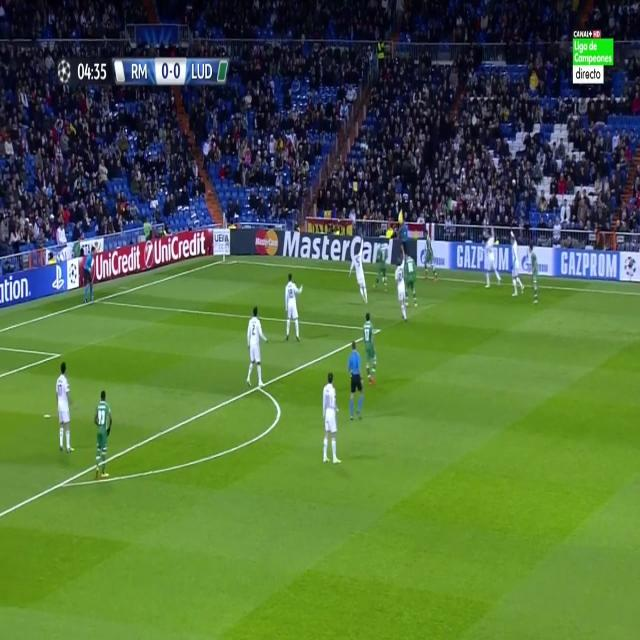Player: (245, 304, 270, 391), (92, 387, 114, 484), (54, 361, 76, 454), (321, 370, 342, 467), (283, 272, 305, 346), (348, 238, 370, 306), (481, 229, 503, 291), (362, 312, 379, 389), (509, 228, 526, 300), (394, 243, 408, 325), (402, 252, 420, 315), (372, 242, 390, 296), (528, 245, 542, 309), (421, 230, 438, 280)
Referee: (347, 341, 365, 424), (82, 247, 98, 307)
